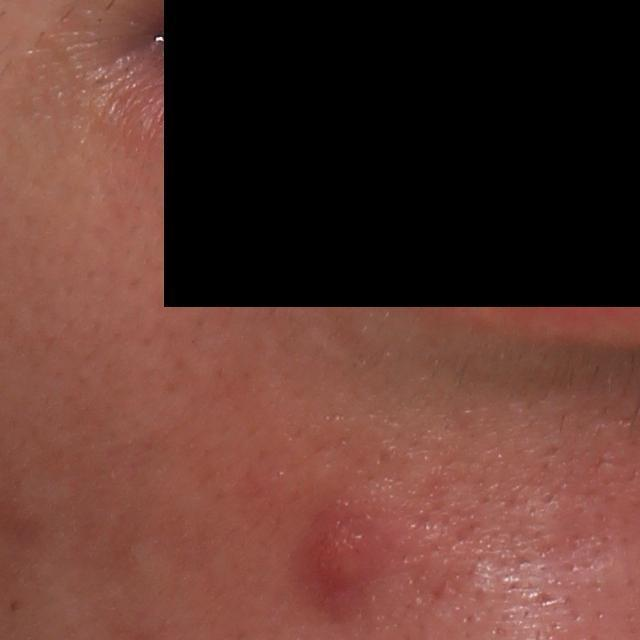papule: (289, 499, 388, 611)
